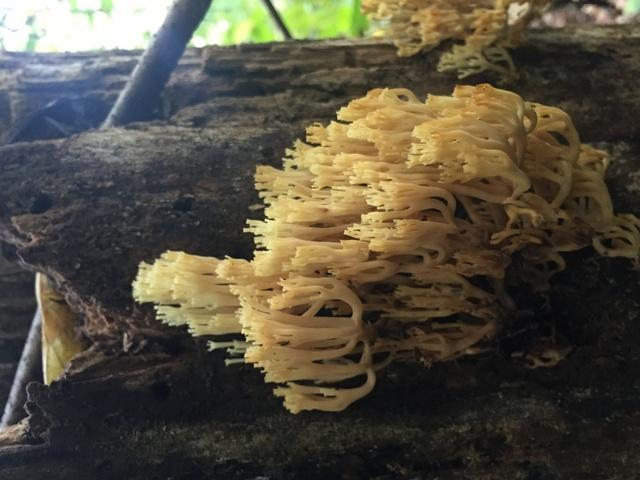Edible Mushroom: (130, 80, 637, 414)
